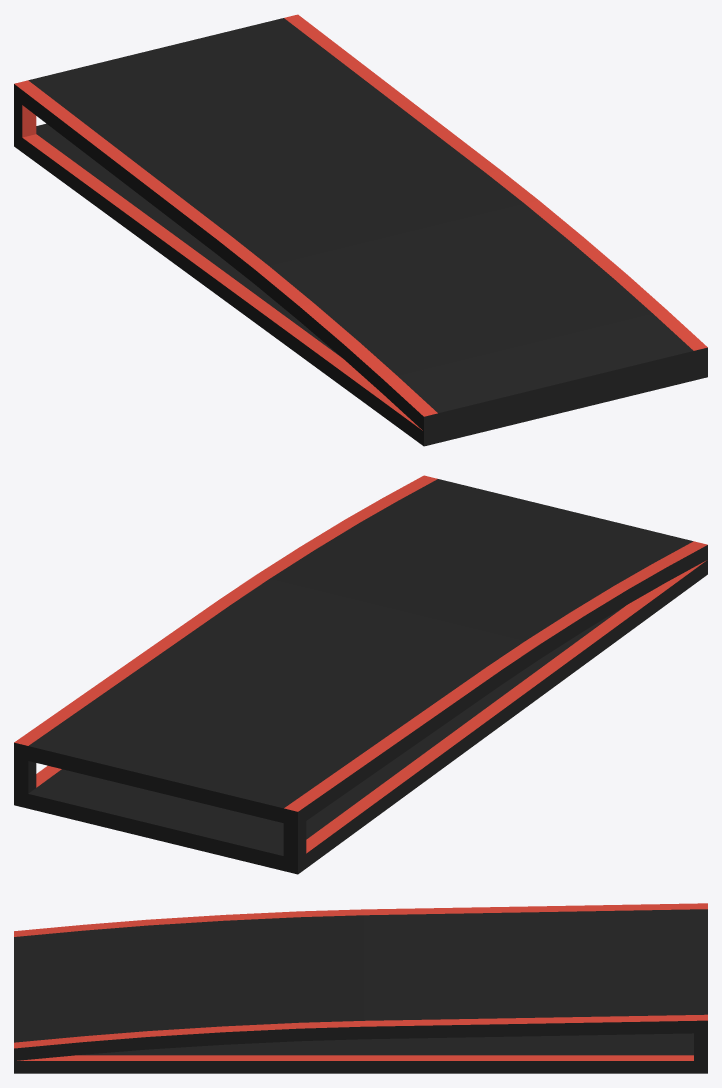
Rendered from Launcher 1.fbx.
The picture shows the model from 3 angles, top to bottom: view 1: azimuth 30°, elevation 25°; view 2: azimuth 150°, elevation 25°; view 3: azimuth 270°, elevation 25°; orthographic projection. The views are drawn at different scales.
Visible parts, largest first — view 1: Launcher; view 2: Launcher; view 3: Launcher.
Part boxes in pixels (x1=…): Launcher: x1=14, y1=14, x2=707, y2=446; Launcher: x1=14, y1=475, x2=707, y2=874; Launcher: x1=14, y1=903, x2=707, y2=1073.
Size of the model in its own units: 200 by 42.17 by 500.
